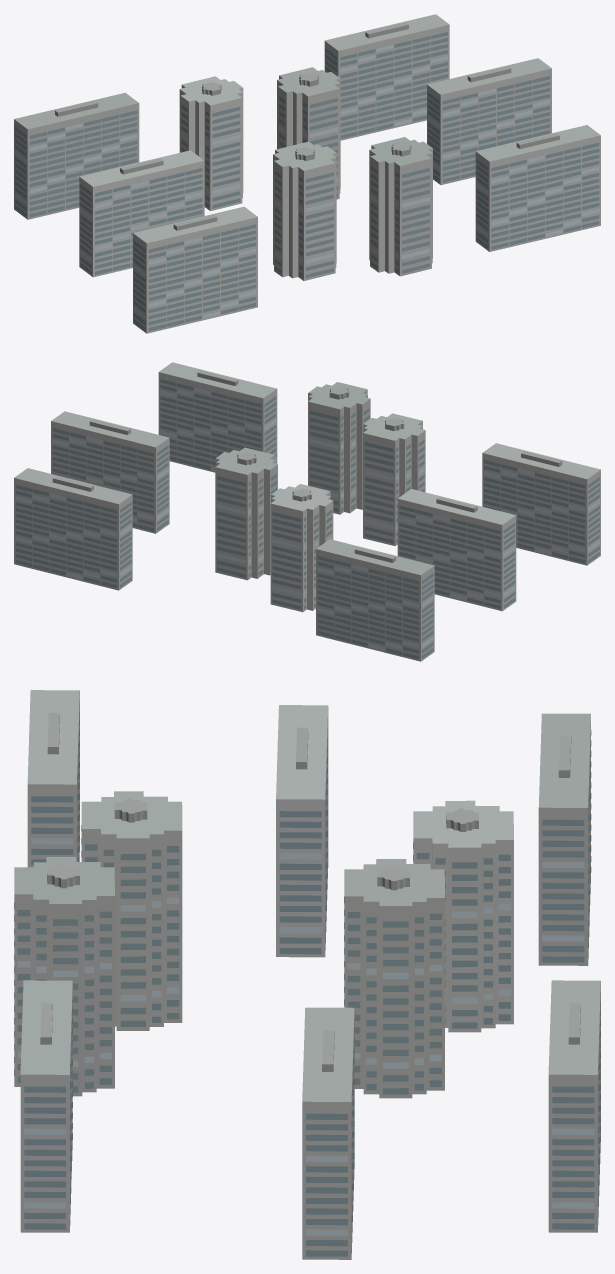
The model's file is apt-a13983816.glb.
3 renders of one model, top to bottom at view 1: azimuth 30°, elevation 25°; view 2: azimuth 150°, elevation 25°; view 3: azimuth 270°, elevation 25°, orthographic. The views are drawn at different scales.
Parts seen in each view (by area): view 1: apt-a13983816; view 2: apt-a13983816; view 3: apt-a13983816.
Part boxes in pixels (x1,y1,x2,y2): apt-a13983816: (14,14,600,333); apt-a13983816: (14,362,600,661); apt-a13983816: (14,690,600,1259).
Size of the model in its own units: 219 by 50 by 132.
